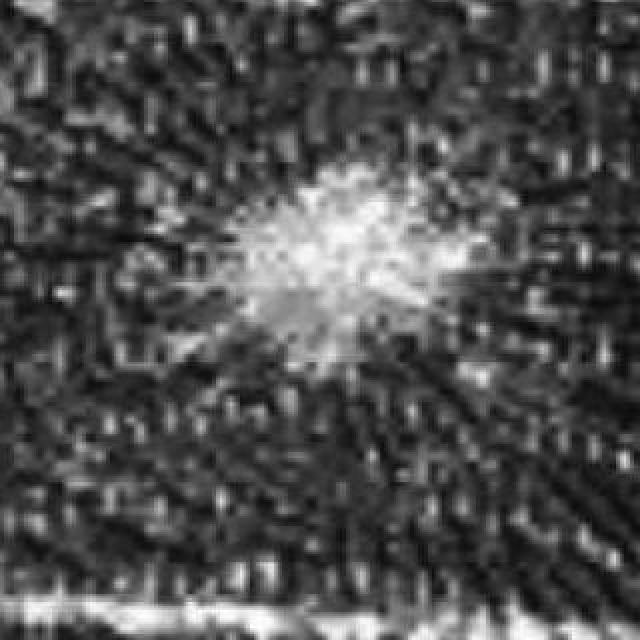Physical-damage: (158, 118, 556, 458)
